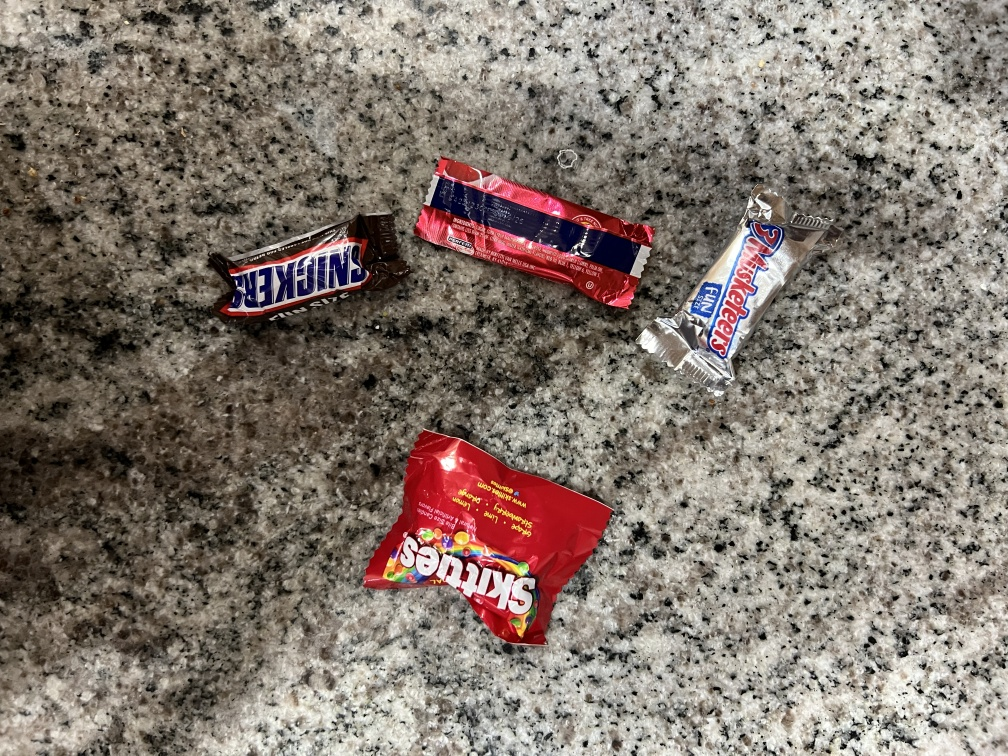skittles: (361, 408, 614, 663)
snickers: (638, 167, 856, 404), (190, 222, 409, 336)
starbust: (407, 143, 661, 308)
